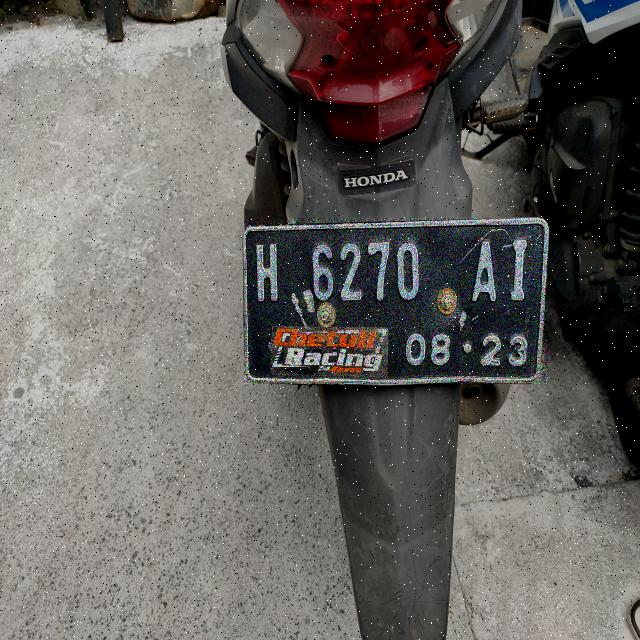plate: (244, 219, 547, 383)
